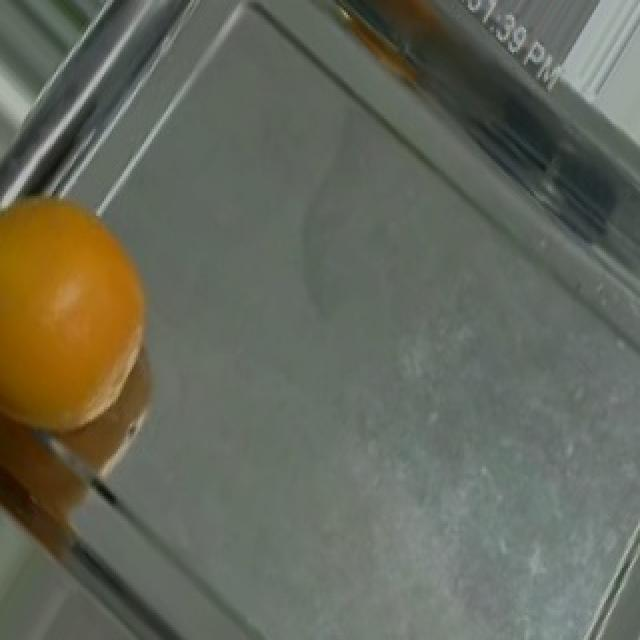Fruit: (0, 179, 172, 459)
